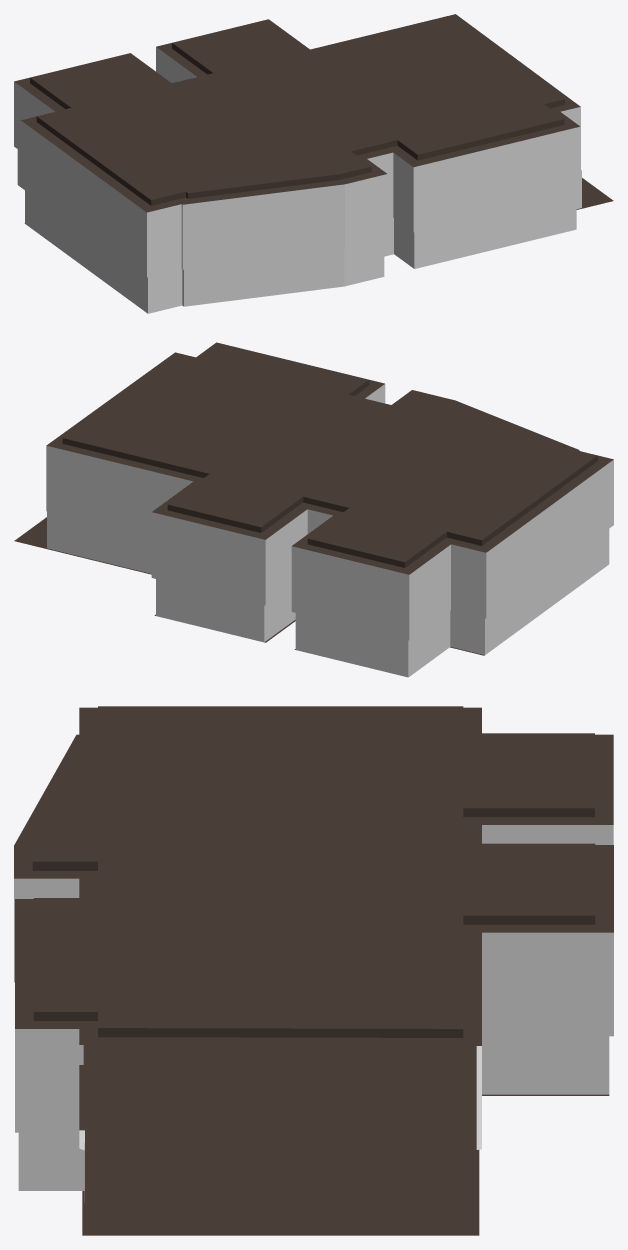
The model's file is bar.fbx.
3 views of the same model, one above another, from view 1: azimuth 30°, elevation 25°; view 2: azimuth 150°, elevation 25°; view 3: azimuth 270°, elevation 25° (orthographic). The views are drawn at different scales.
Visible parts, largest first — view 1: Remade-Bar-Ceiling, Remade-Bar-Walls, Remade-Bar.Floor; view 2: Remade-Bar-Ceiling, Remade-Bar-Walls, Remade-Bar.Floor; view 3: Remade-Bar-Ceiling, Remade-Bar.Floor, Remade-Bar-Walls.
Boxes of the visible parts, left/top/right/bottom form: Remade-Bar-Ceiling: left=14, top=14, right=580, bottom=212; Remade-Bar-Walls: left=14, top=47, right=581, bottom=313; Remade-Bar.Floor: left=24, top=178, right=613, bottom=223; Remade-Bar-Ceiling: left=46, top=342, right=613, bottom=574; Remade-Bar-Walls: left=46, top=384, right=613, bottom=677; Remade-Bar.Floor: left=14, top=517, right=484, bottom=655; Remade-Bar-Ceiling: left=14, top=706, right=613, bottom=1045; Remade-Bar.Floor: left=79, top=1045, right=609, bottom=1235; Remade-Bar-Walls: left=14, top=825, right=613, bottom=1202.
Size of the model in its own units: 1331 by 296 by 928.
